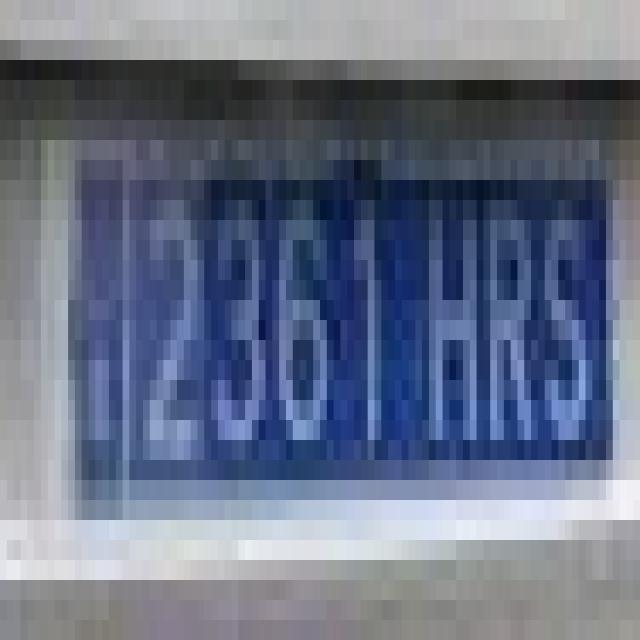licenseplate: (46, 130, 620, 518)
